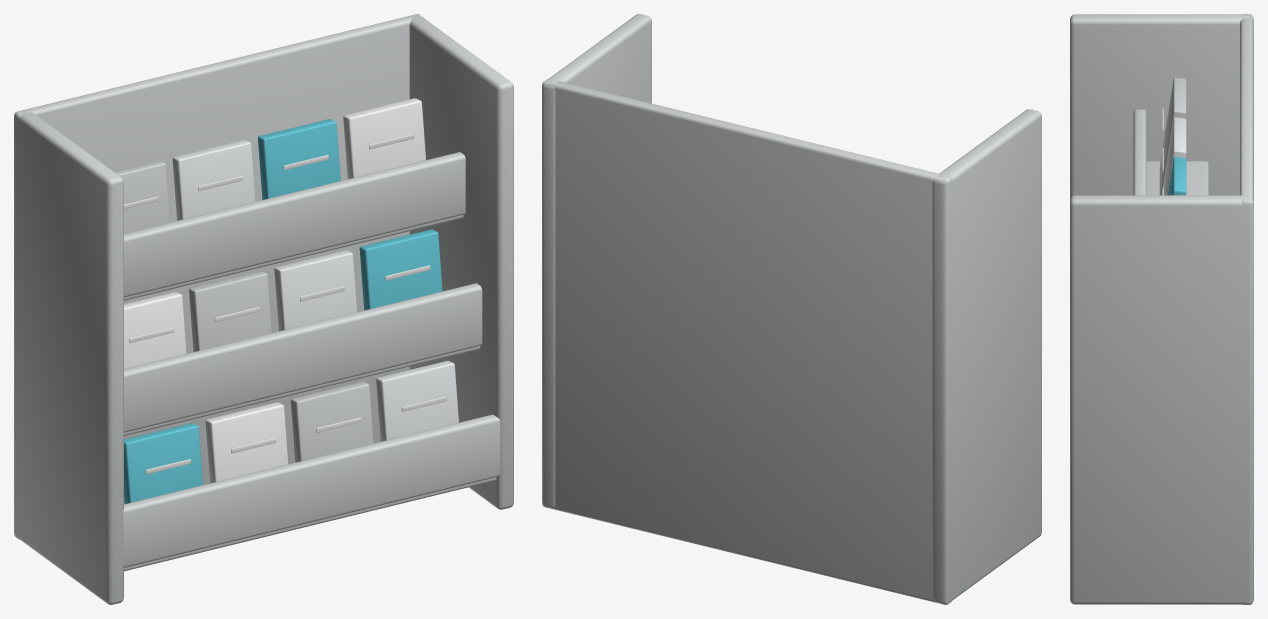
File: kids-book-display.glb
3 views of the same model, side by side, from view 1: azimuth 30°, elevation 25°; view 2: azimuth 150°, elevation 25°; view 3: azimuth 270°, elevation 25° (orthographic). The views are drawn at different scales.
Parts seen in each view (by area): view 1: catalog_surface_RealismUV, catalog_surface_UVMap; view 2: catalog_surface_RealismUV; view 3: catalog_surface_RealismUV, catalog_surface_UVMap.
Boxes of the visible parts, box(x1,y1,x2,y2) form: catalog_surface_RealismUV: box(14, 14, 513, 604); catalog_surface_UVMap: box(124, 119, 442, 503); catalog_surface_RealismUV: box(542, 14, 1041, 604); catalog_surface_RealismUV: box(1070, 14, 1253, 604); catalog_surface_UVMap: box(1167, 157, 1186, 195).
Size of the model in its own units: 0.85 by 0.85 by 0.35.
